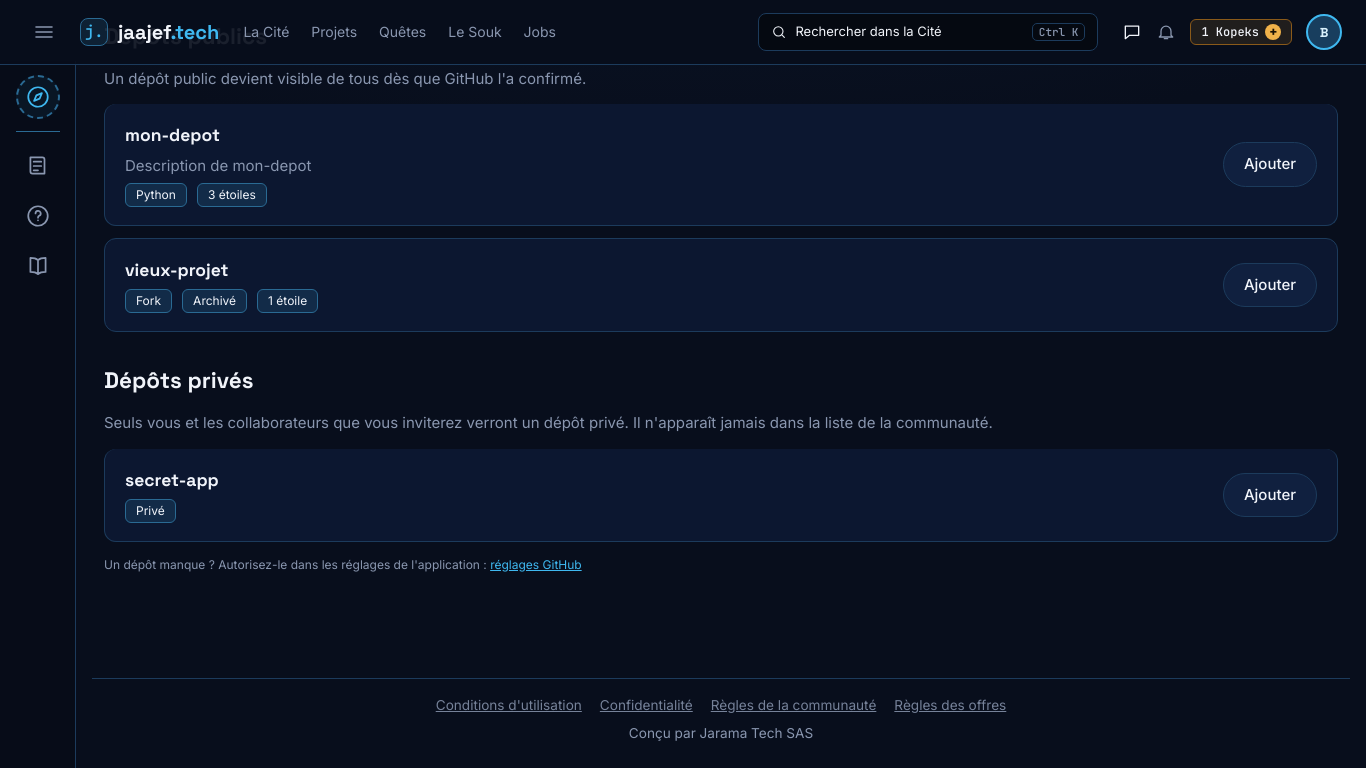
Test: Import a project › lists the private repositories the app can see, marked as private, and adds one as private
(page scrolled)
Check: the heading "secret-app" is shown, box [125,469,219,491]
Check: the text "Privé" is shown, box [125,499,176,523]
What coordinates should you click on to do the following:
click the button with aria-label "Ajouter : secret-app"
I would click on:
 (1270, 495)
Its box is [1223,472,1317,517].
(page scrolled)
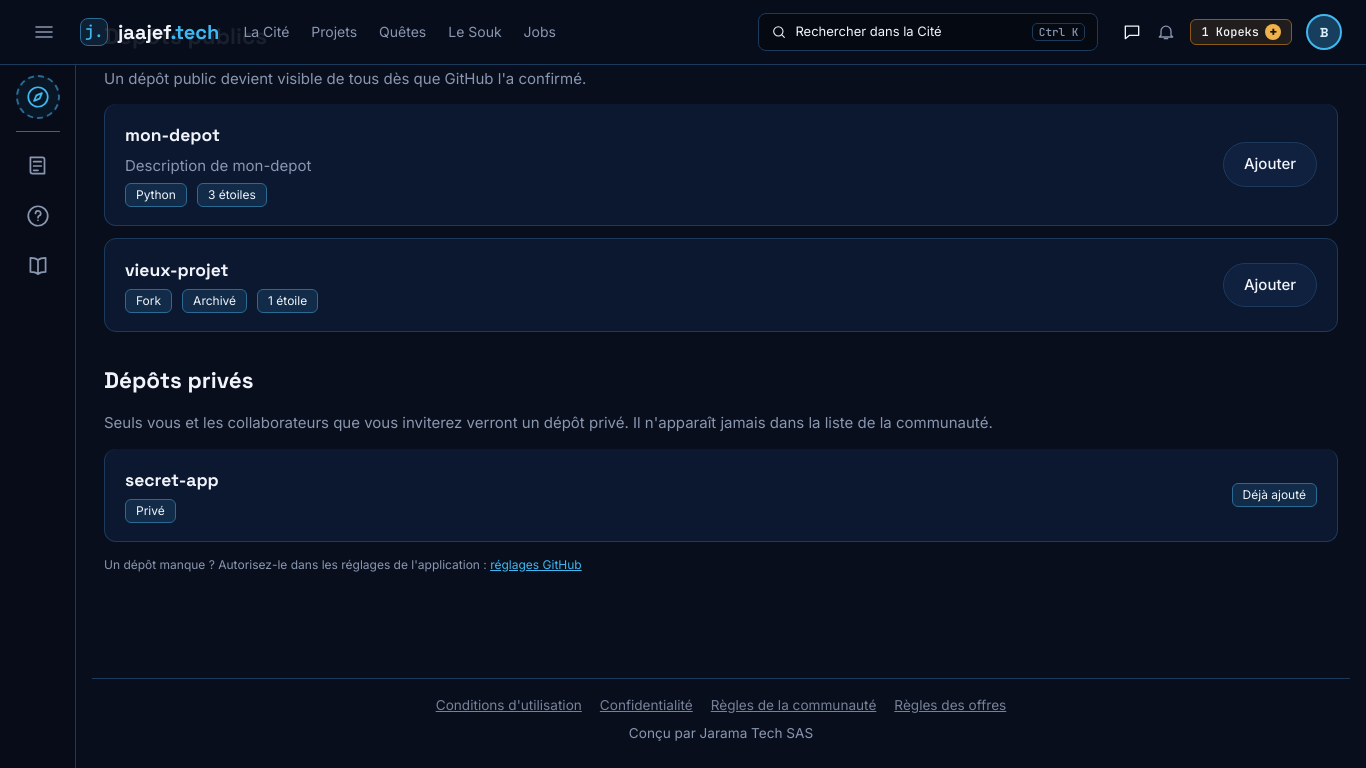
Check: the text "Déjà ajouté" is shown, box [1232,483,1317,507]
